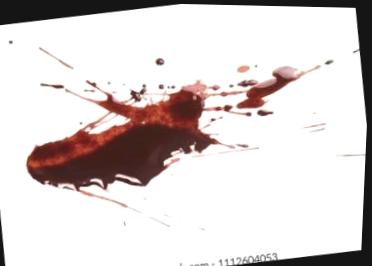Fire: (28, 79, 227, 189), (238, 63, 321, 107), (79, 190, 130, 206), (39, 47, 74, 67), (205, 103, 253, 114), (206, 88, 248, 97), (131, 82, 147, 99), (237, 142, 261, 150), (160, 84, 176, 93), (238, 78, 259, 84), (258, 108, 274, 114), (238, 64, 251, 71), (156, 57, 165, 64), (326, 57, 334, 62), (354, 46, 360, 51), (8, 39, 12, 43)
